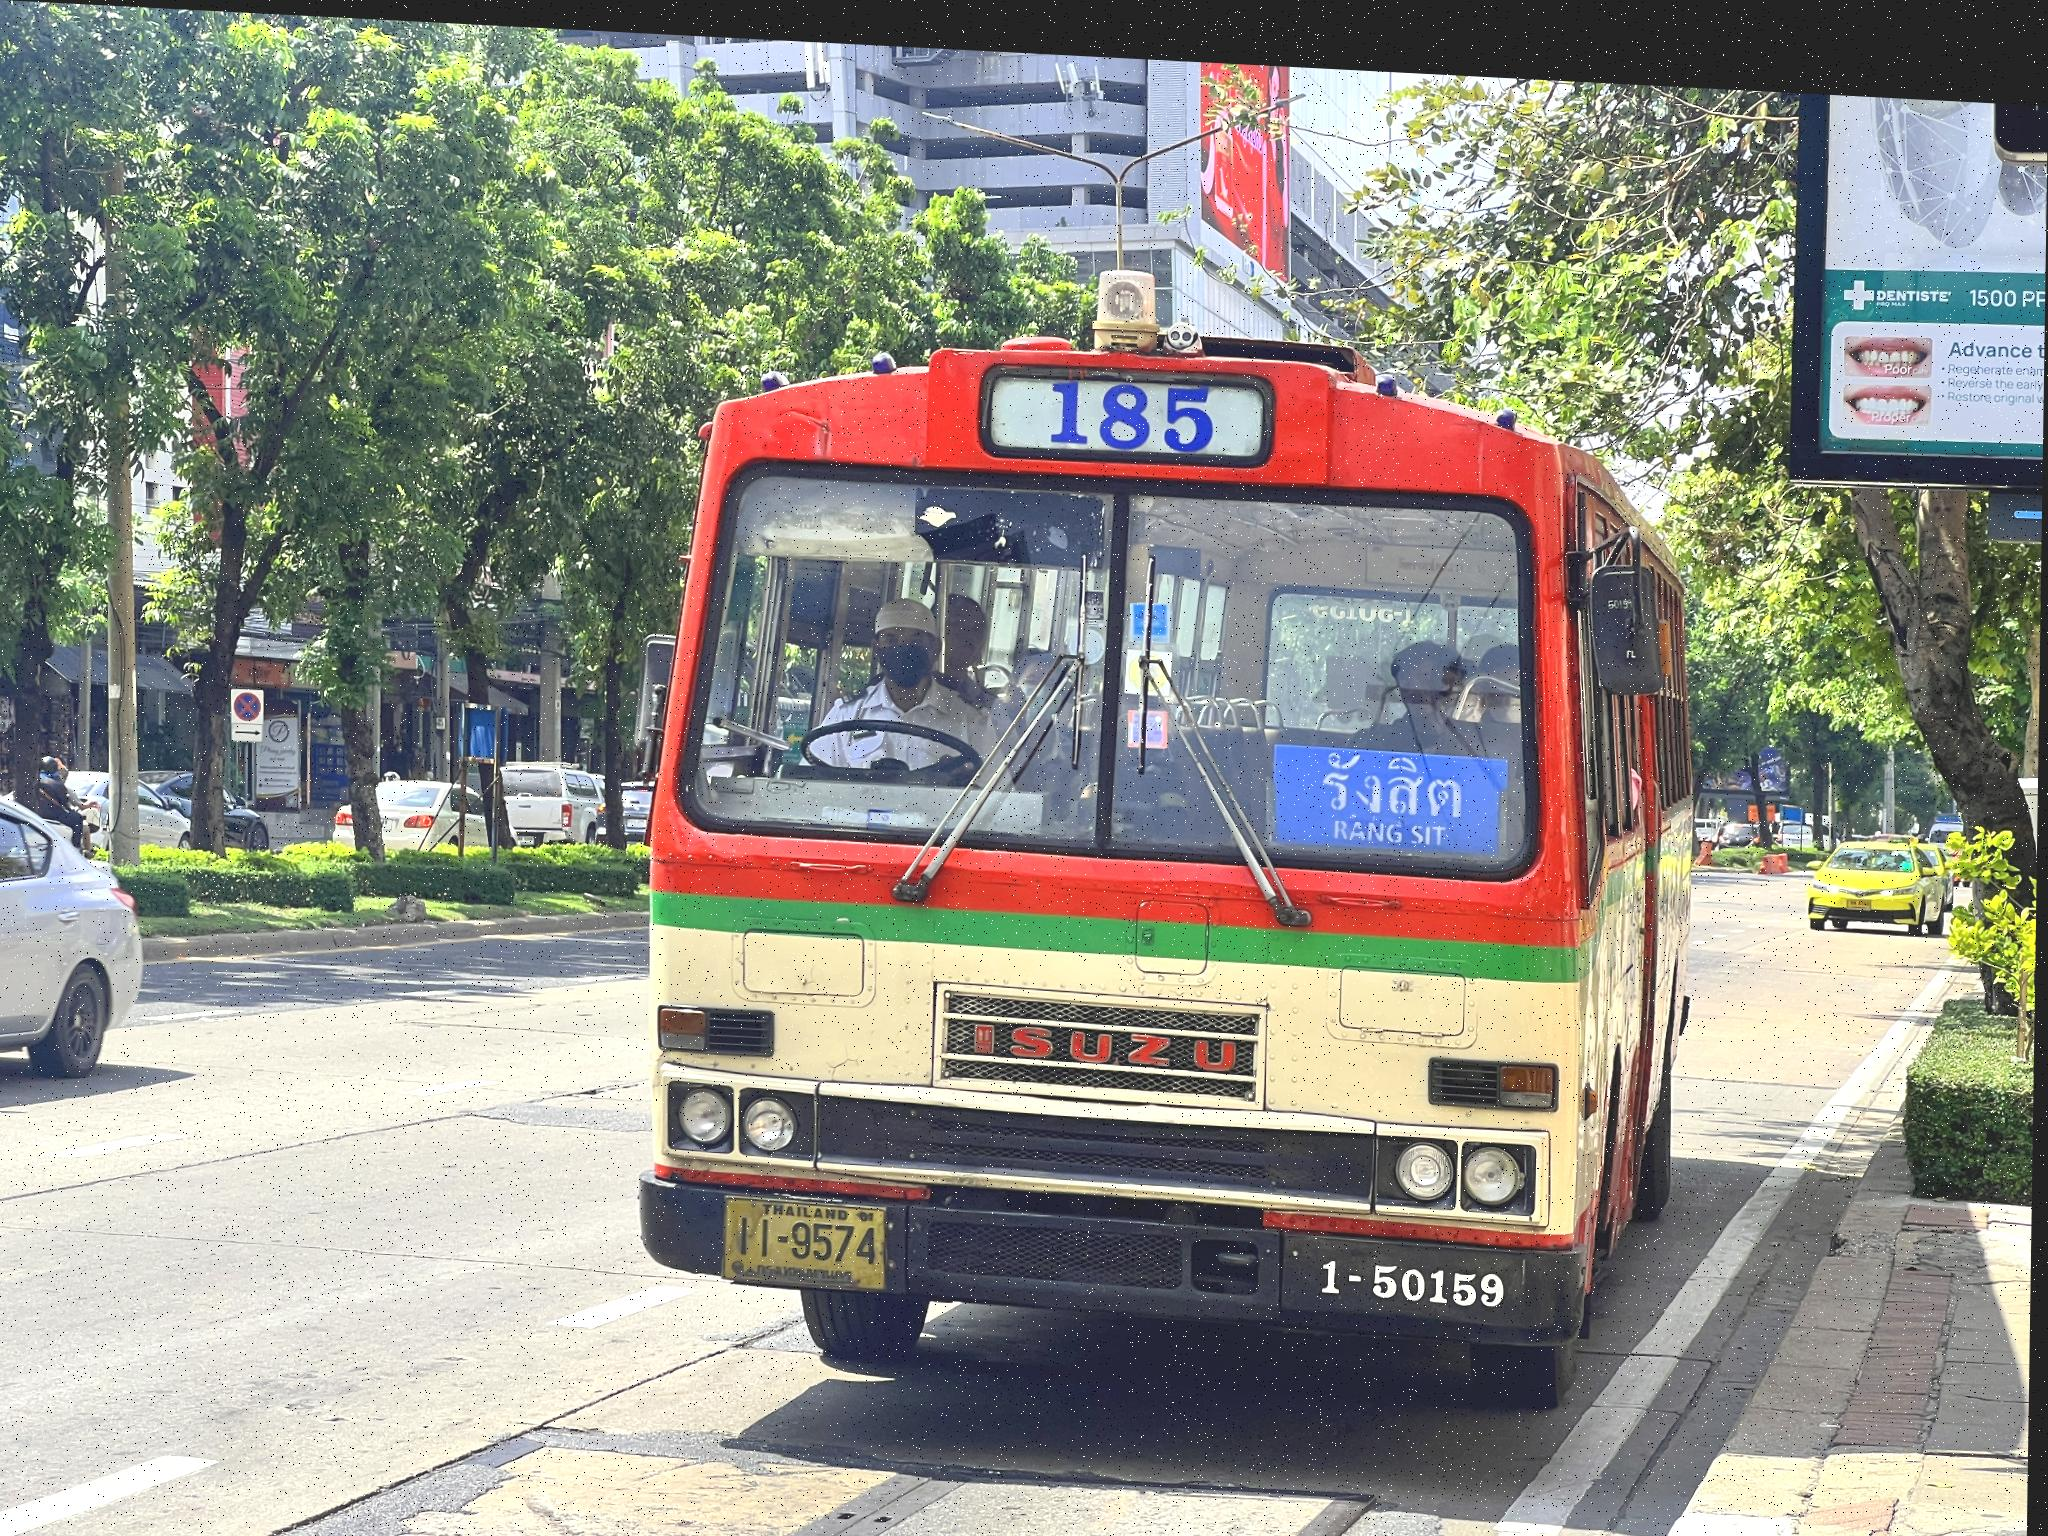BMTA-bus: (639, 329, 1690, 1365)
Bus Line Number: (979, 339, 1280, 458)
Bus Side Number: (1317, 1229, 1526, 1304)
Destination Sign: (1274, 718, 1514, 850)
